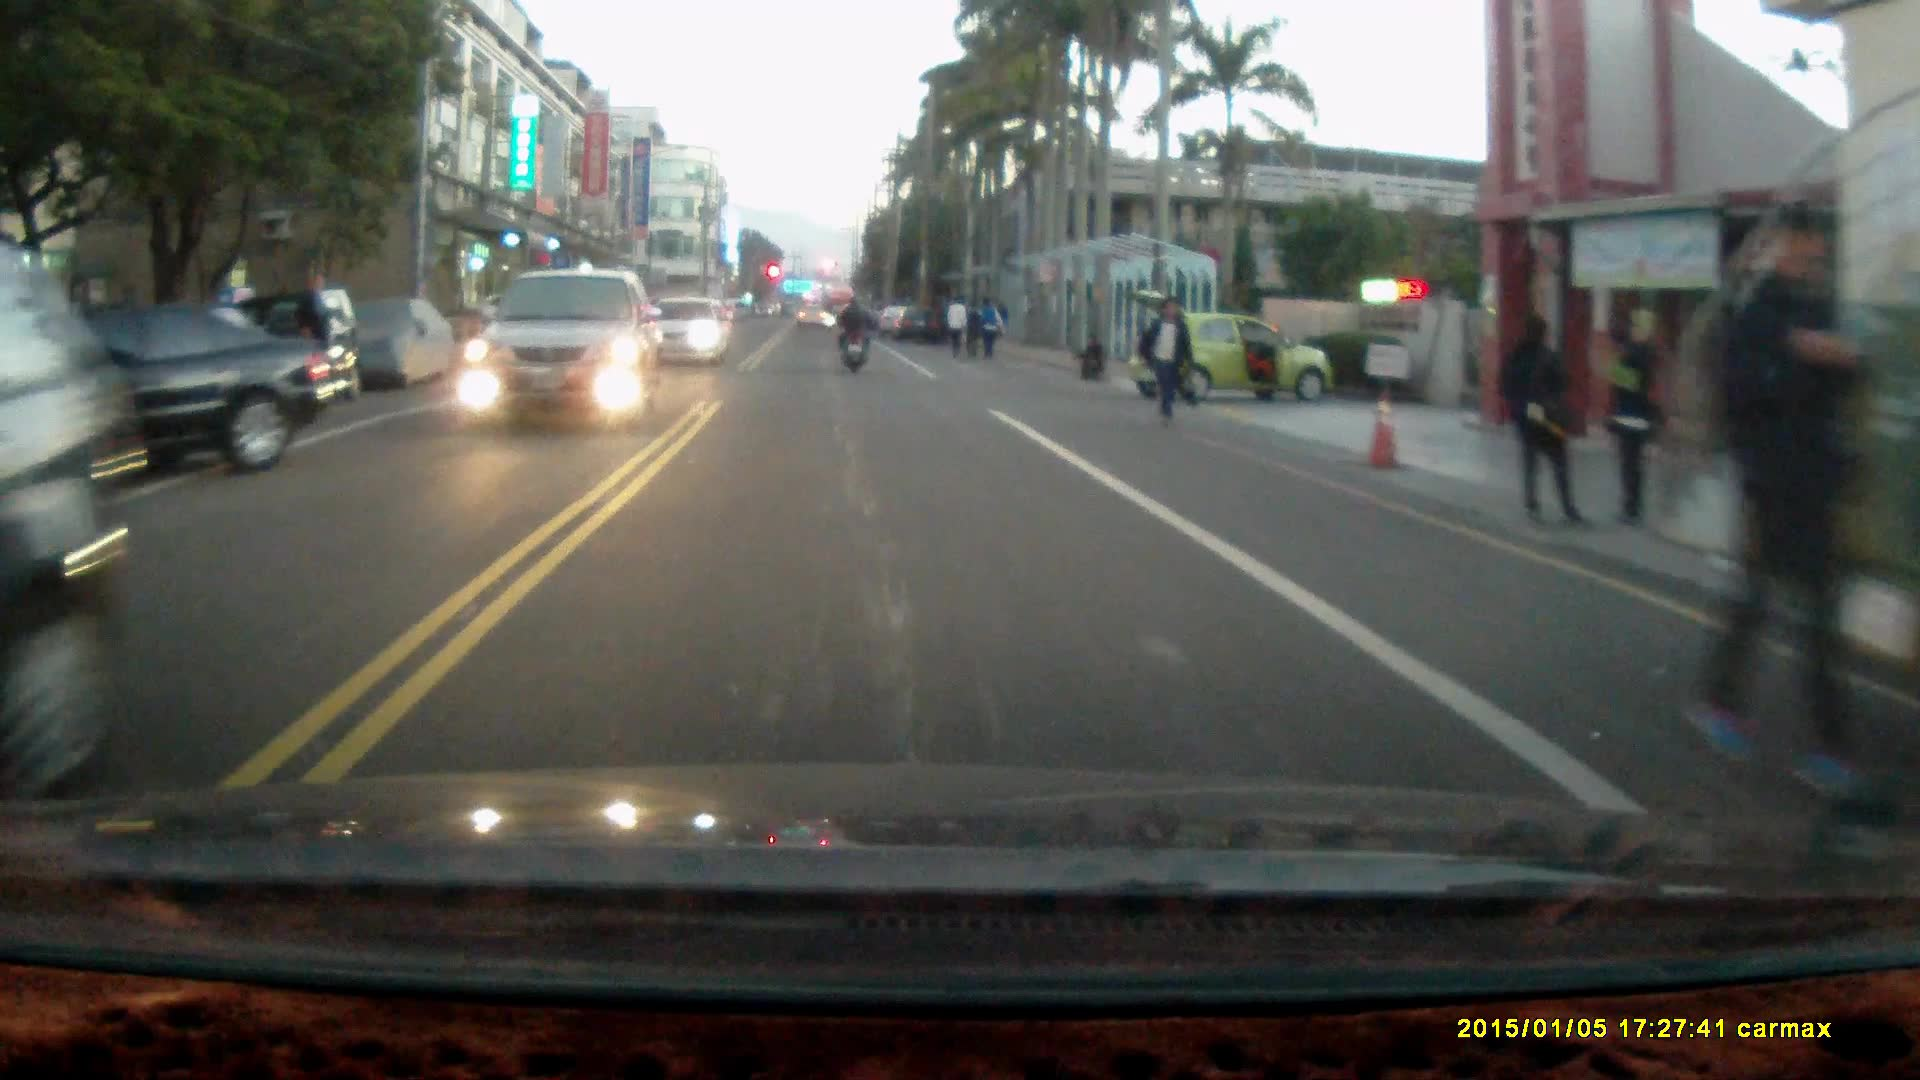pedestrian: (1691, 192, 1874, 812), (1497, 309, 1589, 529), (1603, 313, 1658, 526), (1135, 296, 1194, 430), (976, 293, 1002, 360), (1076, 331, 1108, 379), (942, 291, 964, 356), (963, 300, 983, 360)
rider: (834, 293, 872, 373)
vehicle: (0, 296, 339, 494), (461, 267, 668, 425), (1127, 286, 1342, 402), (186, 286, 364, 418), (643, 297, 733, 368)
